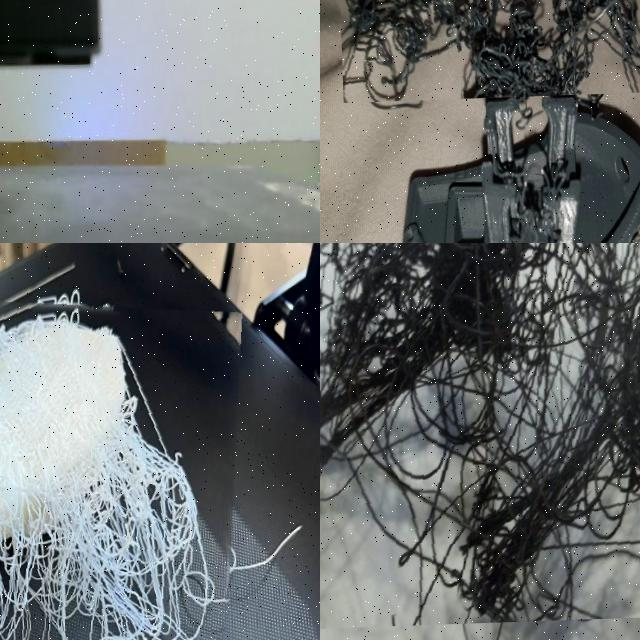spaghetti: (320, 243, 640, 622), (0, 279, 257, 640), (332, 0, 640, 102)
